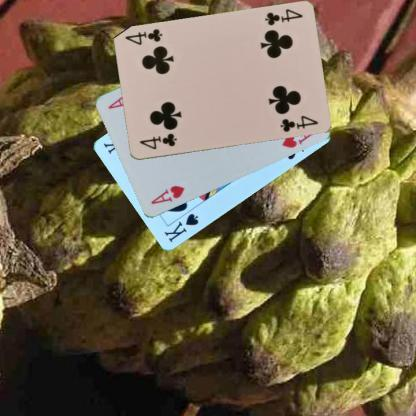4c: (262, 6, 304, 28), (137, 132, 178, 152)
Ah: (148, 183, 186, 206)
Ks: (161, 211, 200, 244)
